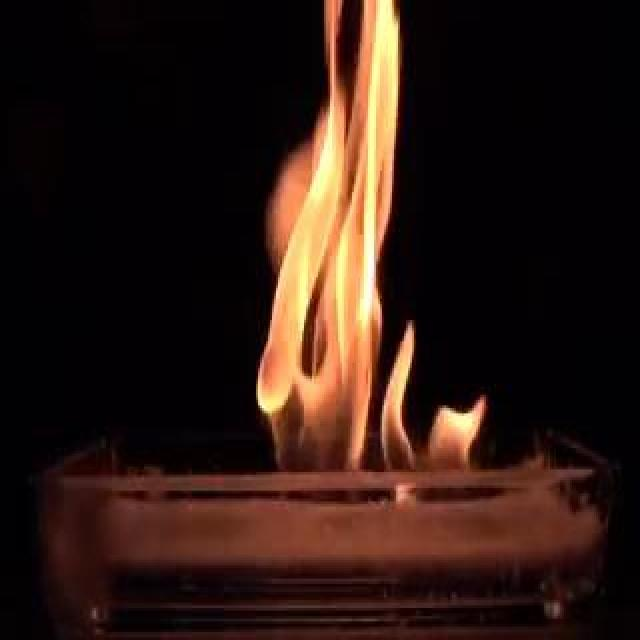Fire: (168, 114, 408, 444)
